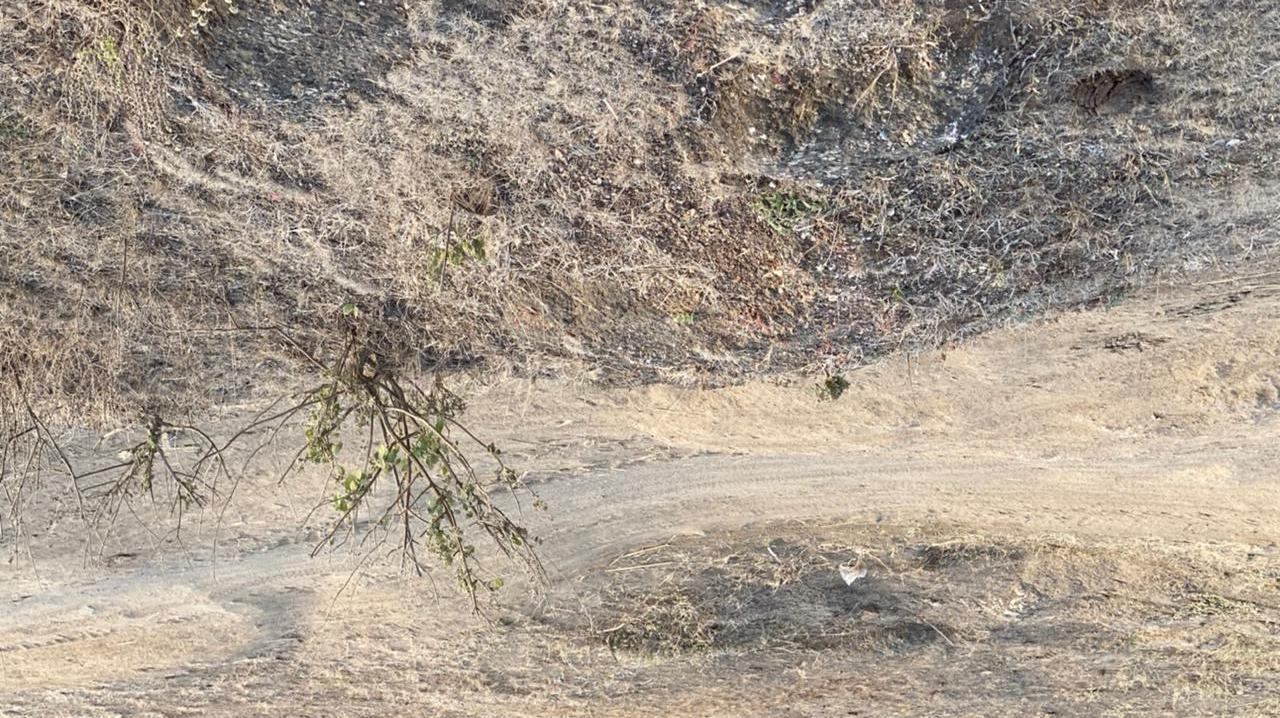vehicle_track: (0, 445, 1280, 640)
